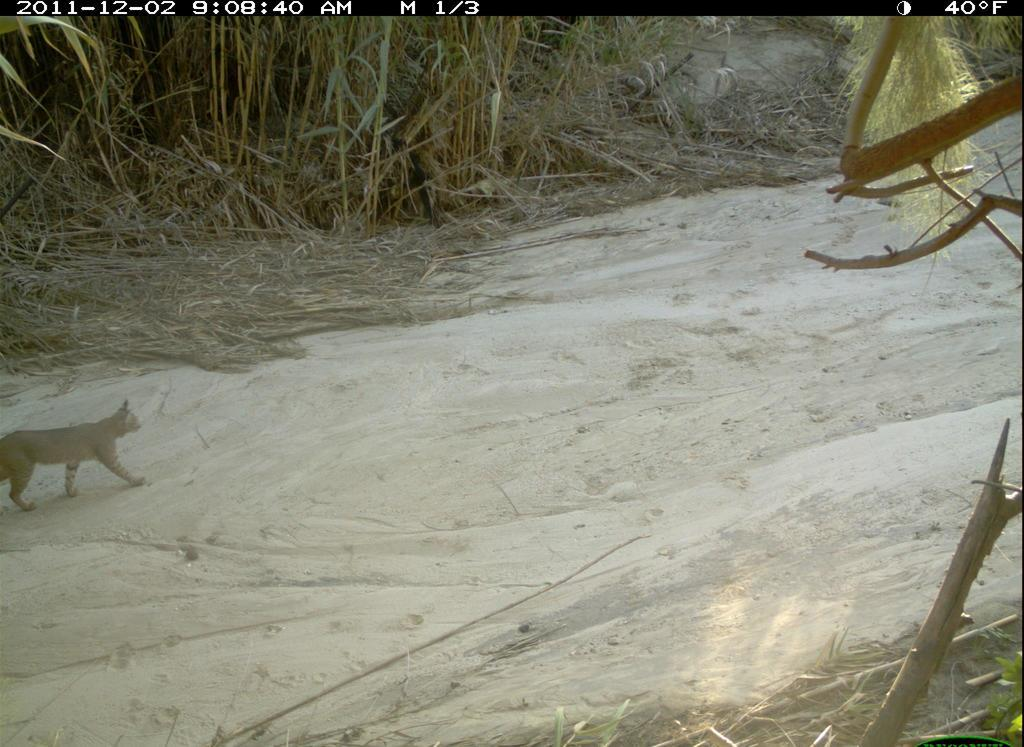bobcat: (8, 397, 159, 519)
